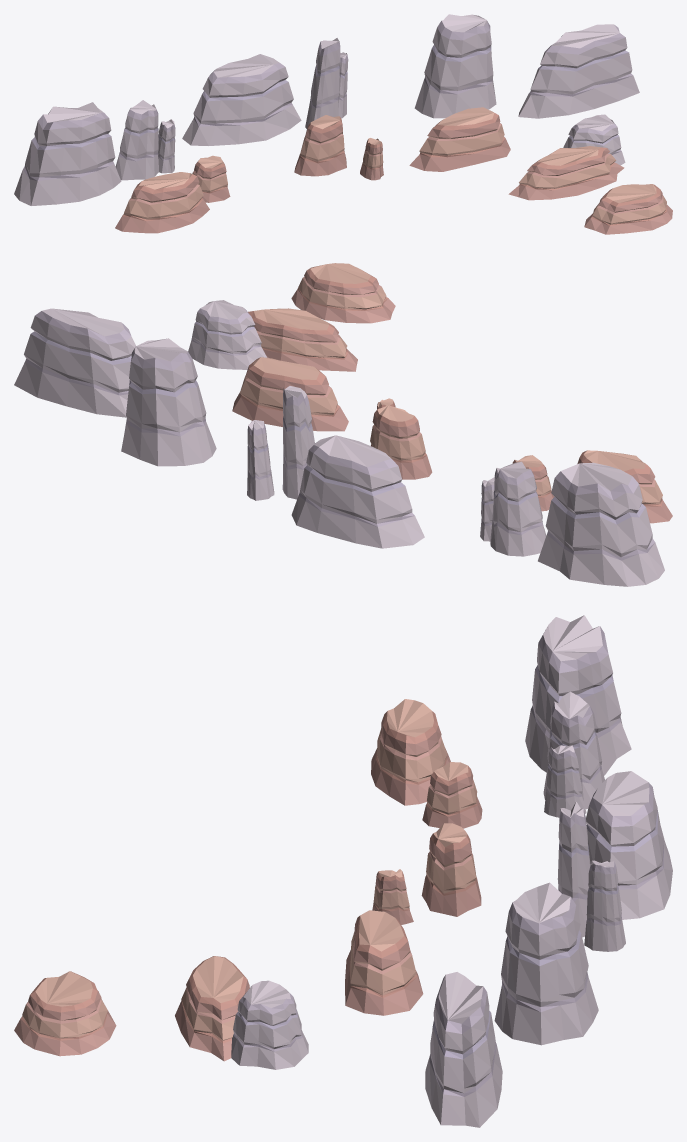
Rendered from BasinEscarpment.gltf.
3 renders of one model, top to bottom at view 1: azimuth 30°, elevation 25°; view 2: azimuth 150°, elevation 25°; view 3: azimuth 270°, elevation 25°, orthographic. The views are drawn at different scales.
Parts seen in each view (by area): view 1: Far massif 0, Far massif 7, Far massif 3, Far massif 6, Low bluff 4, Low bluff 5, Low bluff 0, Low bluff 6, Far massif 1, Low bluff 2, Far massif 4, Far massif 8 (+4 smaller); view 2: Far massif 0, Far massif 3, Far massif 7, Far massif 6, Low bluff 4, Low bluff 6, Low bluff 5, Far massif 1, Far massif 8, Low bluff 2, Far massif 4, Low bluff 0 (+3 smaller); view 3: Far massif 6, Far massif 7, Far massif 0, Far massif 3, Low bluff 4, Low bluff 6, Low bluff 0, Far massif 8, Low bluff 5, Low bluff 2, Far massif 1, Far massif 5 (+4 smaller).
Part boxes in pixels (bbox=[...]): Far massif 0: bbox=[14, 102, 121, 205]; Far massif 7: bbox=[518, 24, 639, 118]; Far massif 3: bbox=[182, 54, 301, 145]; Far massif 6: bbox=[414, 14, 496, 118]; Low bluff 4: bbox=[409, 107, 510, 171]; Low bluff 5: bbox=[508, 146, 624, 200]; Low bluff 0: bbox=[115, 172, 209, 233]; Low bluff 6: bbox=[584, 184, 672, 234]; Far massif 1: bbox=[115, 100, 158, 180]; Low bluff 2: bbox=[294, 115, 346, 176]; Far massif 4: bbox=[305, 38, 340, 128]; Far massif 8: bbox=[563, 114, 625, 165]; Far massif 0: bbox=[538, 462, 664, 586]; Far massif 3: bbox=[291, 435, 424, 548]; Far massif 7: bbox=[14, 308, 135, 417]; Far massif 6: bbox=[121, 338, 216, 466]; Low bluff 4: bbox=[232, 357, 348, 431]; Low bluff 6: bbox=[291, 263, 395, 323]; Low bluff 5: bbox=[248, 308, 357, 371]; Far massif 1: bbox=[490, 461, 546, 556]; Far massif 8: bbox=[188, 300, 267, 369]; Low bluff 2: bbox=[370, 405, 432, 479]; Far massif 4: bbox=[282, 386, 314, 499]; Low bluff 0: bbox=[577, 450, 672, 523]; Far massif 6: bbox=[494, 882, 598, 1045]; Far massif 7: bbox=[425, 972, 502, 1127]; Far massif 0: bbox=[525, 615, 631, 775]; Far massif 3: bbox=[586, 771, 672, 919]; Low bluff 4: bbox=[345, 910, 423, 1015]; Low bluff 6: bbox=[14, 971, 116, 1056]; Low bluff 0: bbox=[371, 699, 450, 805]; Far massif 8: bbox=[231, 980, 308, 1069]; Low bluff 5: bbox=[175, 956, 249, 1061]; Low bluff 2: bbox=[421, 823, 481, 916]; Far massif 1: bbox=[543, 691, 604, 809]; Far massif 5: bbox=[584, 860, 625, 951].
Bounding box in the file's own units: 97.42 × 13.7 × 64.74.
